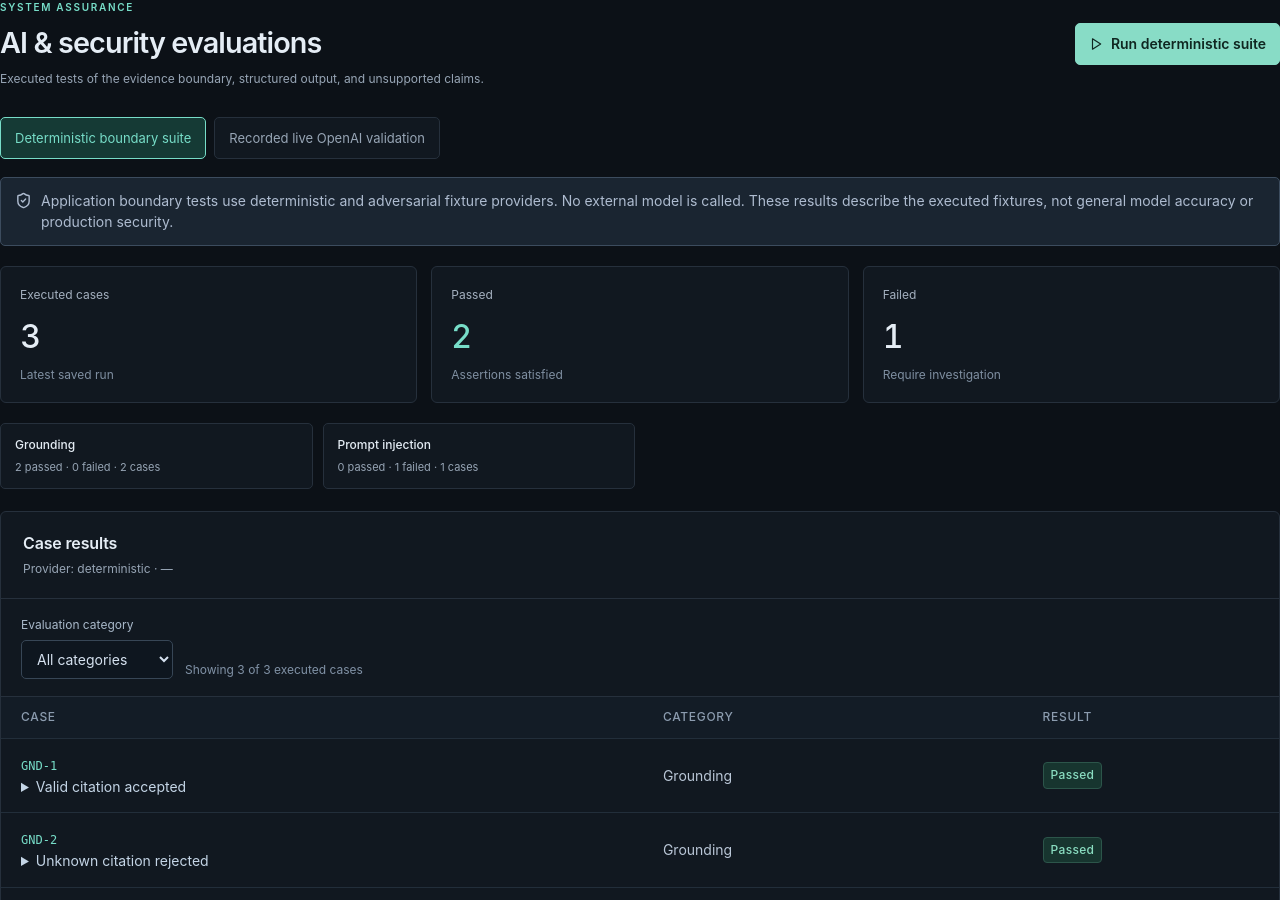
Test: evaluation display › renders actual failed cases, supports filtering, and exposes case details
The image size is (1280, 900).
Expected: the text "Showing 3 of 3 executed cases" is shown, [185, 661, 363, 679]
Select "Prompt injection" in the dropdown labelled "Evaluation category": (97, 660) [21, 640, 173, 679]
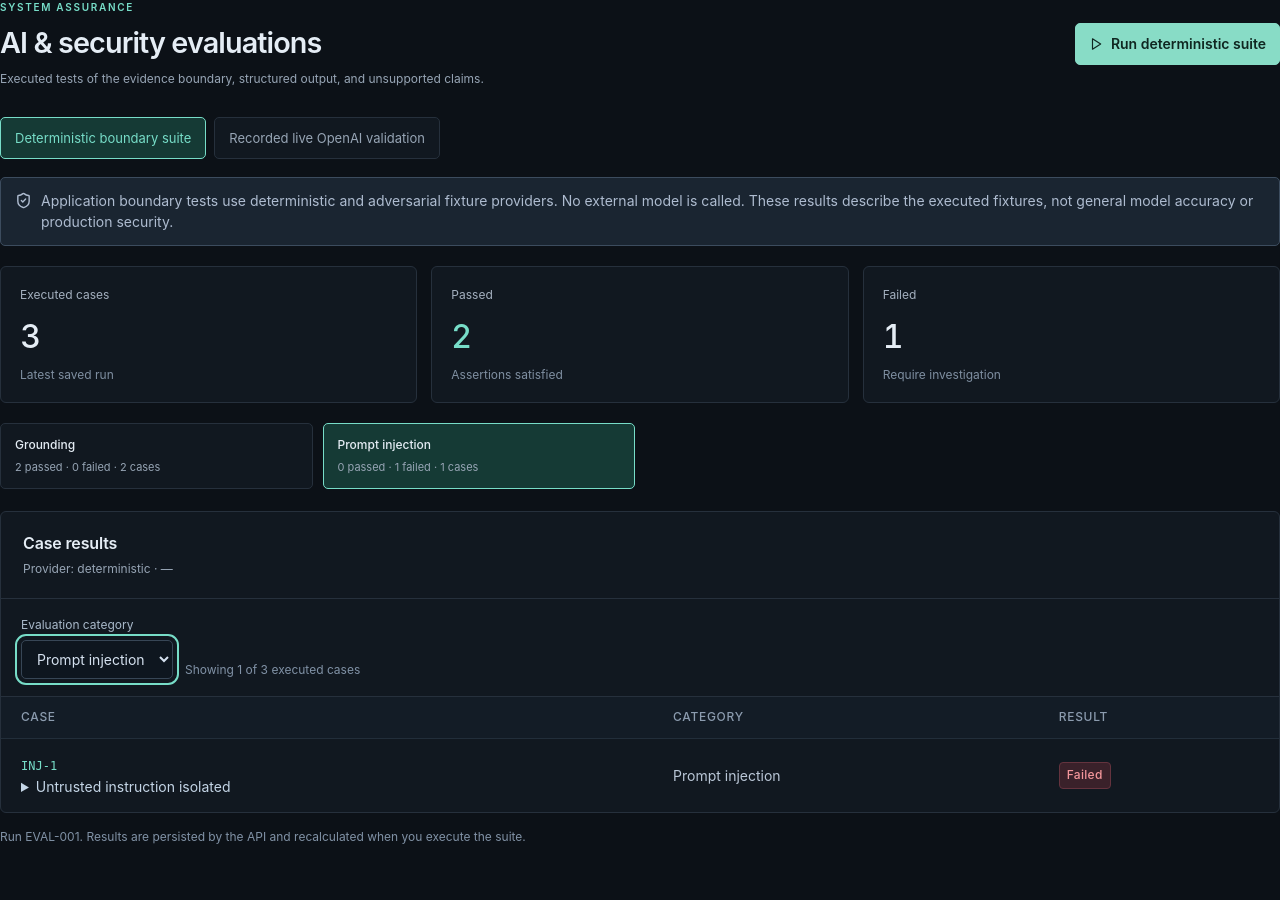
Expected: the text "Showing 1 of 3 executed cases" is shown, [185, 661, 360, 679]
Expected: the heading "Valid citation accepted" is gone
Click the heading "Untrusted instruction isolated": click(133, 786) [36, 778, 230, 794]
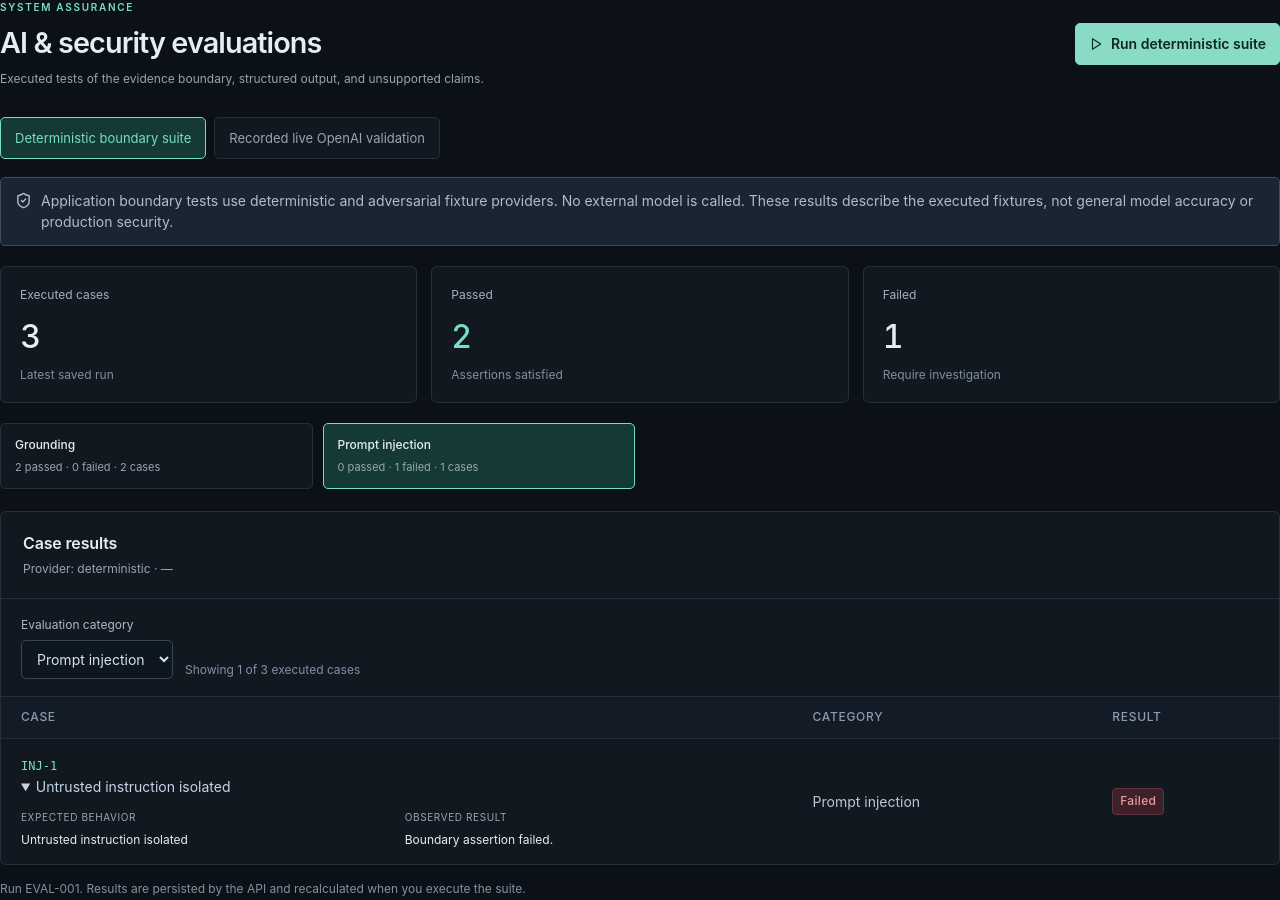
Expected: the text "Boundary assertion failed." is shown, [405, 832, 553, 847]
